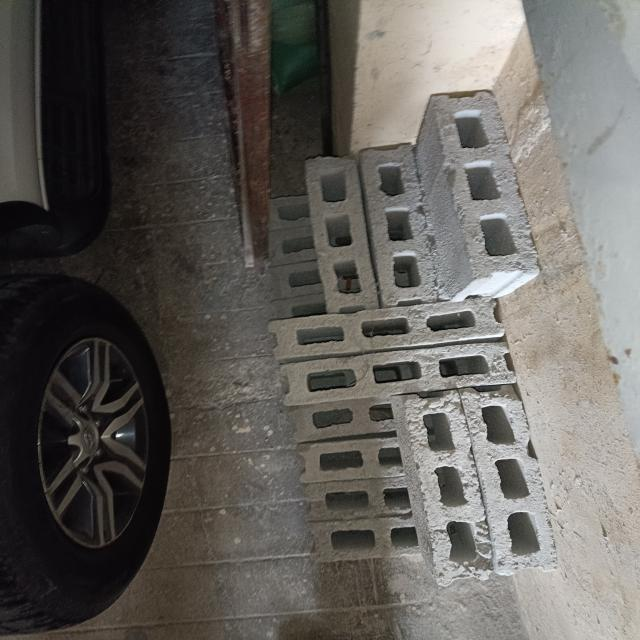Hollow blocks: (442, 104, 538, 279), (368, 134, 436, 310), (480, 396, 540, 570), (426, 405, 486, 578), (317, 148, 374, 321), (277, 308, 507, 344), (294, 356, 524, 392), (305, 488, 418, 518), (307, 448, 408, 481), (293, 409, 397, 436), (318, 527, 418, 555), (272, 265, 319, 297), (270, 198, 315, 231), (273, 238, 314, 261)
